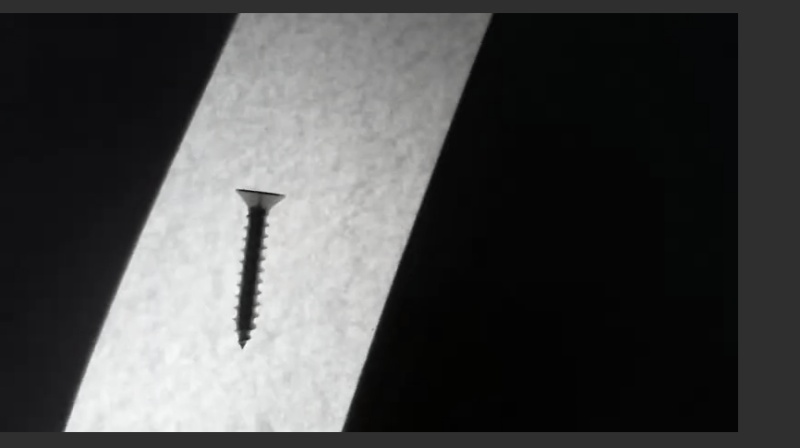S001: (230, 185, 286, 348)
